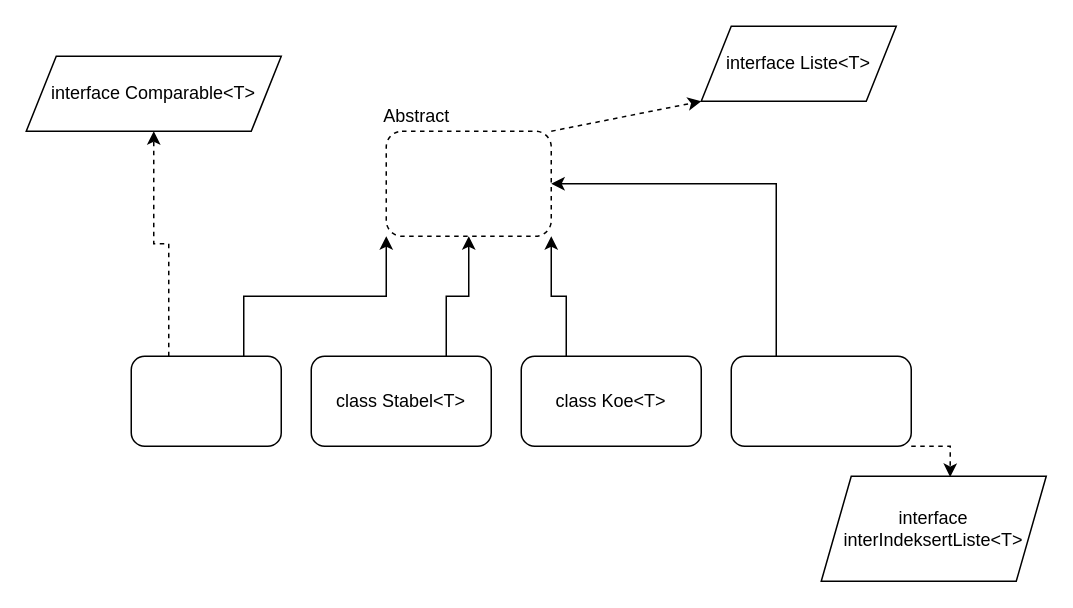
This 1073x608 diagram has some shape labels left out. Here are the shapes that lost their labels. From the top down, the centre of each, then its label:
At point (468, 183): "class Lenkeliste<T>".
At point (205, 400): "class Prioritetskoe<T>".
At point (820, 400): "class IndeksertListe<T>".
